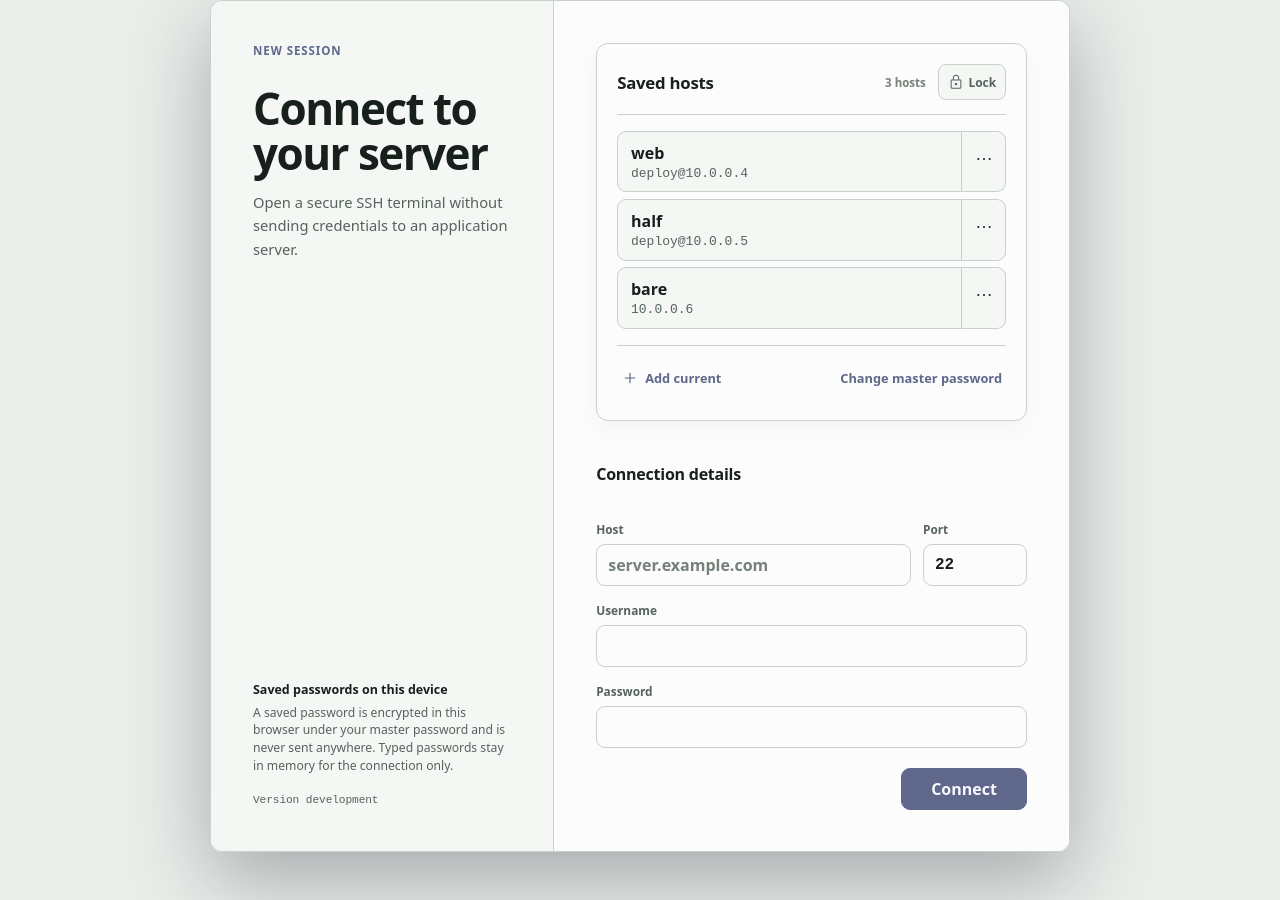
Test: ConnectDialog › fills the form and waits when the entry has no password
What coordinates should you click on to do the following:
click the button with aria-label "half:"
I would click on:
 (647, 221)
Its box is [617,199,962,261].
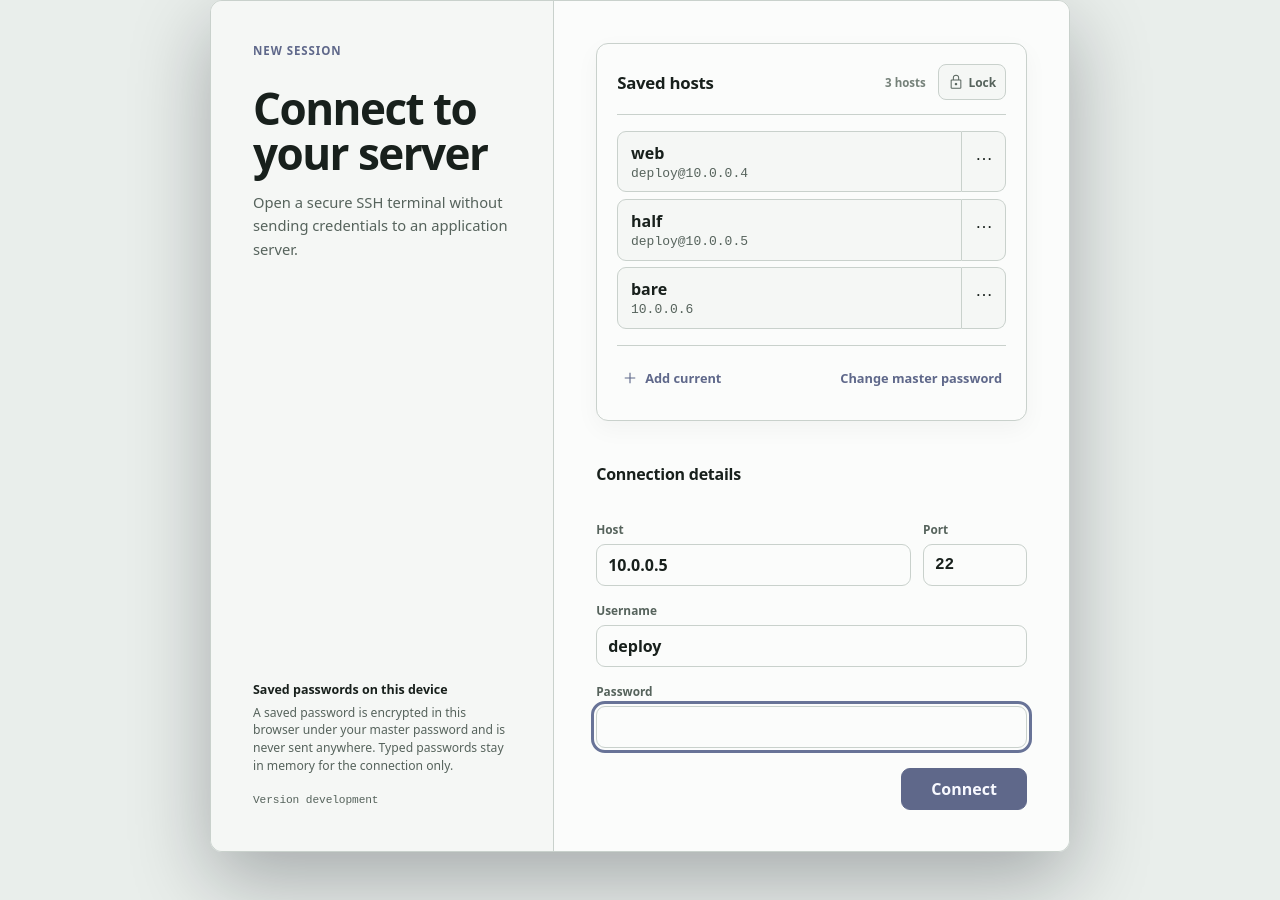
Expected: the field labelled "Host" holds "10.0.0.5", [596,544,911,586]
Expected: the field labelled "Username" holds "deploy", [596,625,1027,667]
